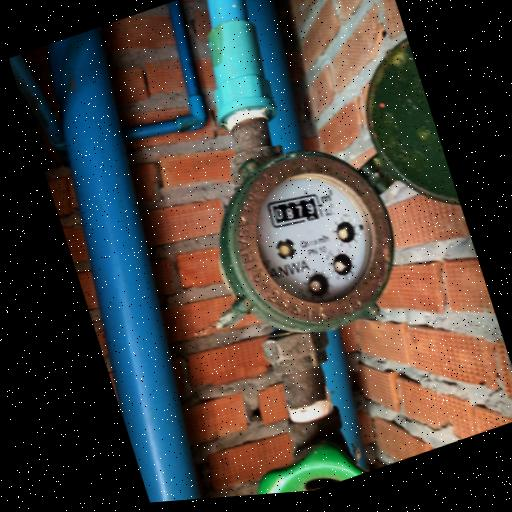0: (270, 202, 287, 224)
7: (290, 199, 307, 220)
8: (280, 200, 298, 222)
9: (300, 195, 320, 222)
border_water_meter_number: (261, 185, 326, 235)
